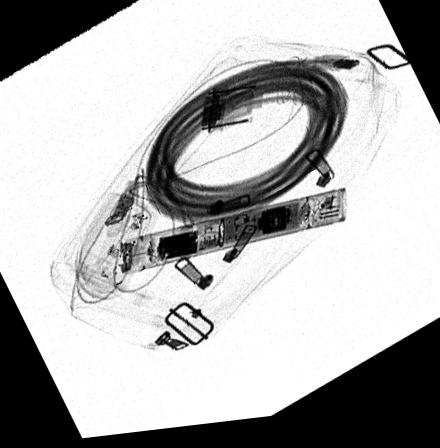Baton: (117, 195, 348, 279)
